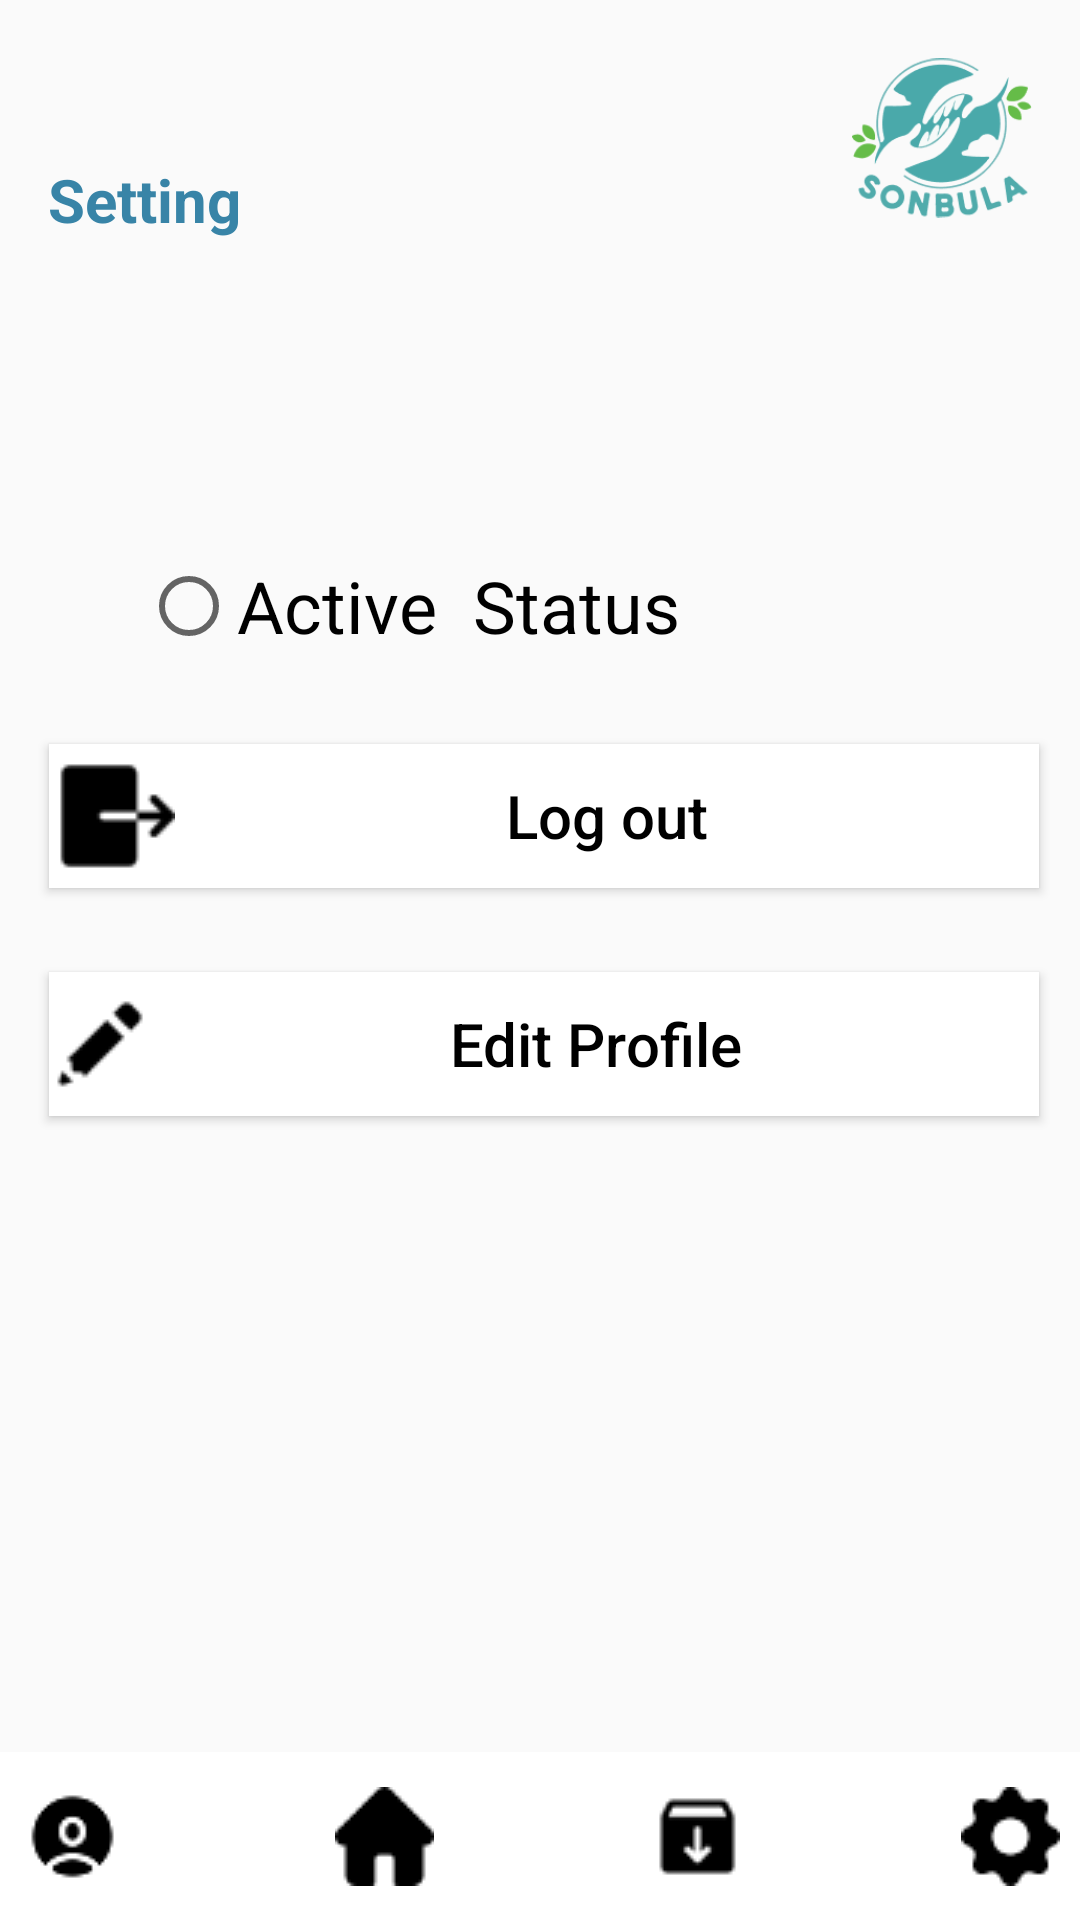

Named icons in this screenshot (1080 x 1920) and their centers, (x=x, y=y):
downloads: (x=697, y=1836)
home: (x=384, y=1836)
